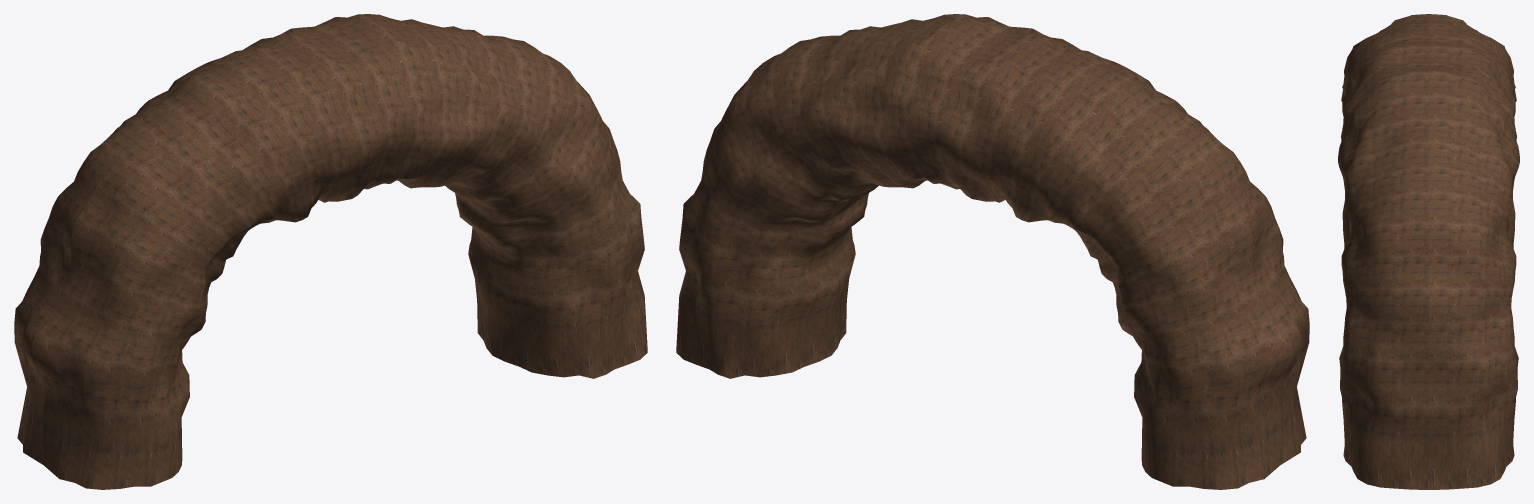
Rendered from ArchCore.fbx.
3 views of the same model, side by side, from view 1: azimuth 30°, elevation 25°; view 2: azimuth 150°, elevation 25°; view 3: azimuth 270°, elevation 25° (orthographic). The views are drawn at different scales.
Visible parts, largest first — view 1: ArchCore.002; view 2: ArchCore.002; view 3: ArchCore.002.
Boxes of the visible parts, bbox=[...] form: ArchCore.002: bbox=[14, 14, 647, 489]; ArchCore.002: bbox=[676, 14, 1309, 489]; ArchCore.002: bbox=[1338, 14, 1519, 489].
Size of the model in its own units: 78.43 by 23.78 by 45.08.
